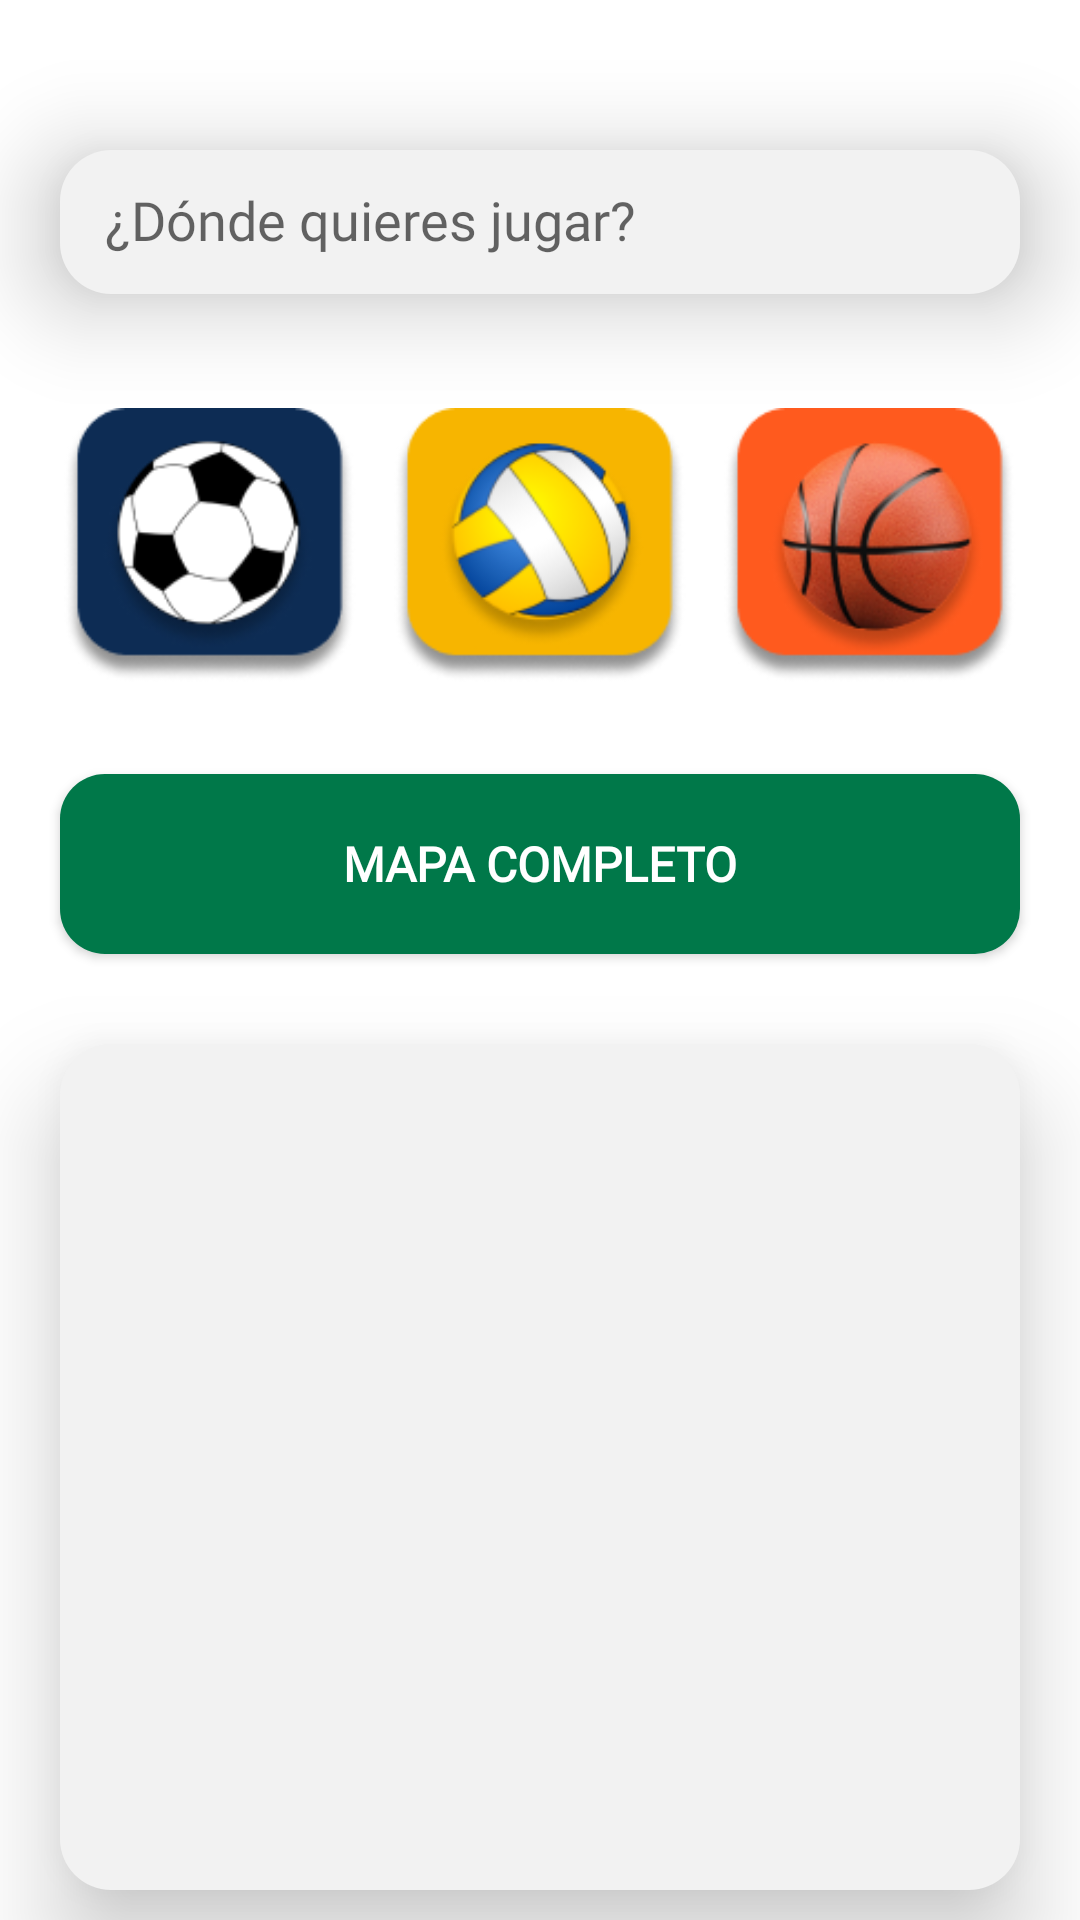

Named icons in this screenshot (1080px x 1920px) and their centers, [x,y]:
basketball principal: [869,541]
football principal: [209,541]
voleyball principal: [539,541]
